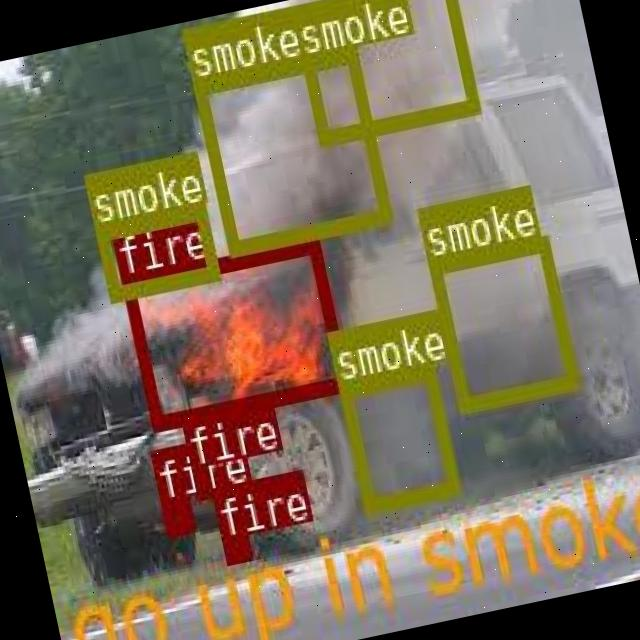fire: (118, 236, 348, 430), (159, 496, 193, 532), (220, 534, 248, 562), (189, 465, 211, 498)
smoke: (192, 46, 390, 252), (287, 0, 476, 144), (425, 235, 575, 410), (336, 363, 456, 512), (94, 200, 216, 298)
